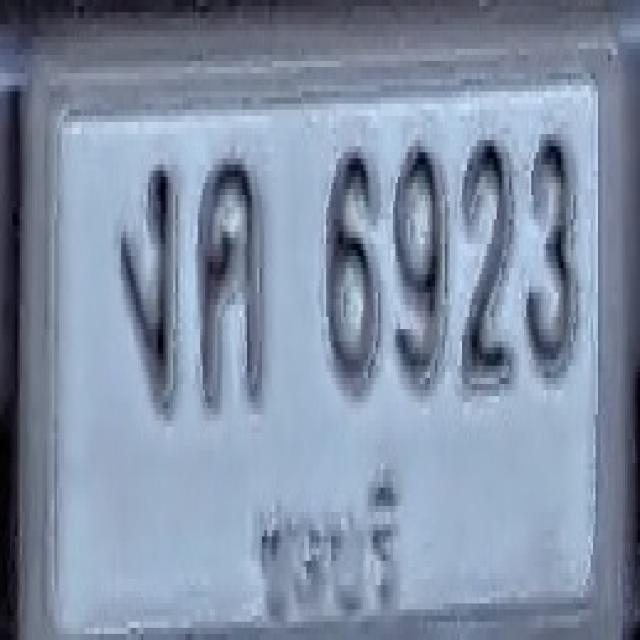2: (461, 134, 513, 384)
3: (525, 128, 577, 378)
6: (325, 143, 379, 393)
9: (393, 137, 445, 387)
A04: (197, 152, 266, 408)
A07: (118, 158, 174, 408)
